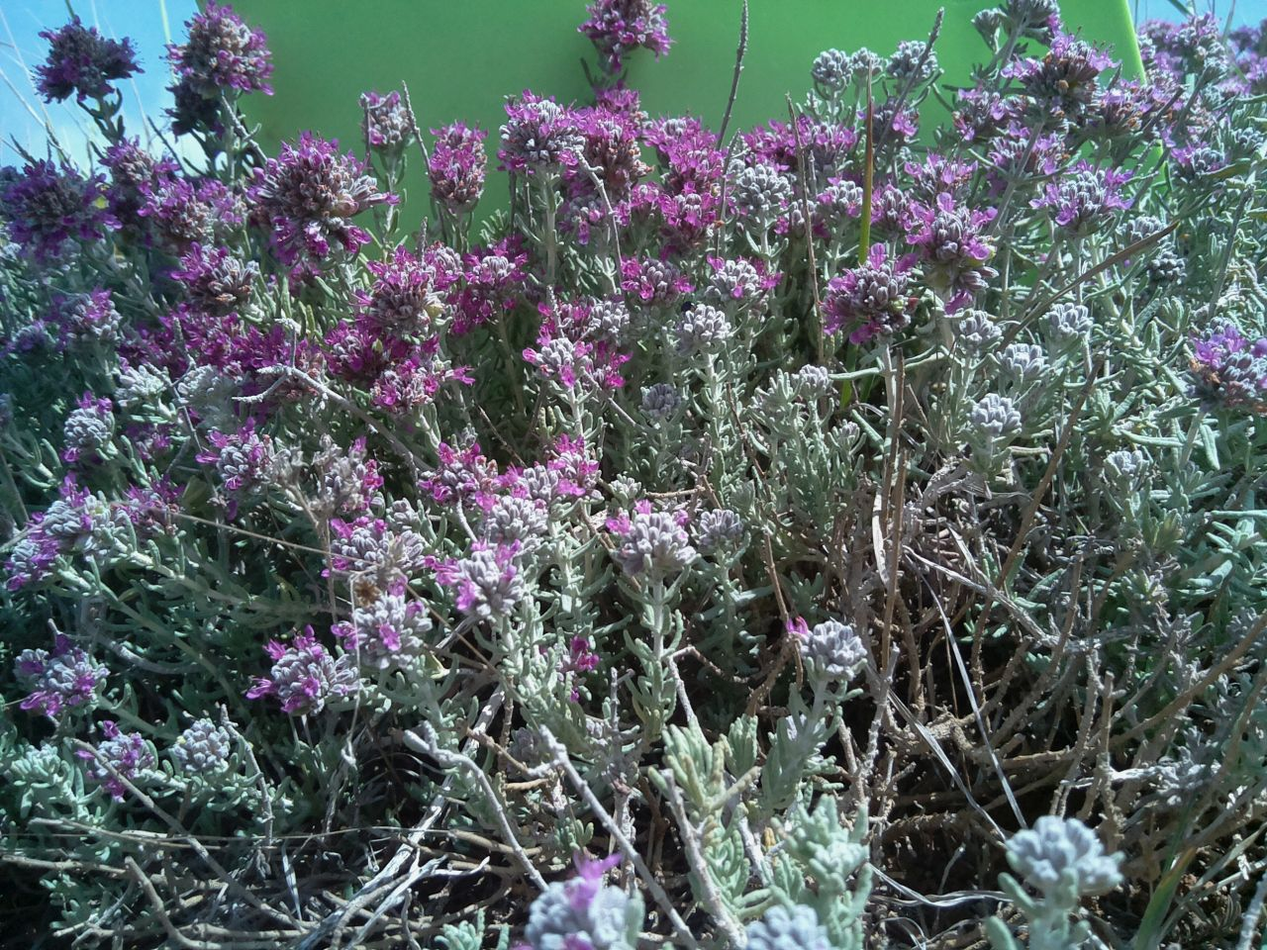Beetle: (670, 292, 698, 317)
